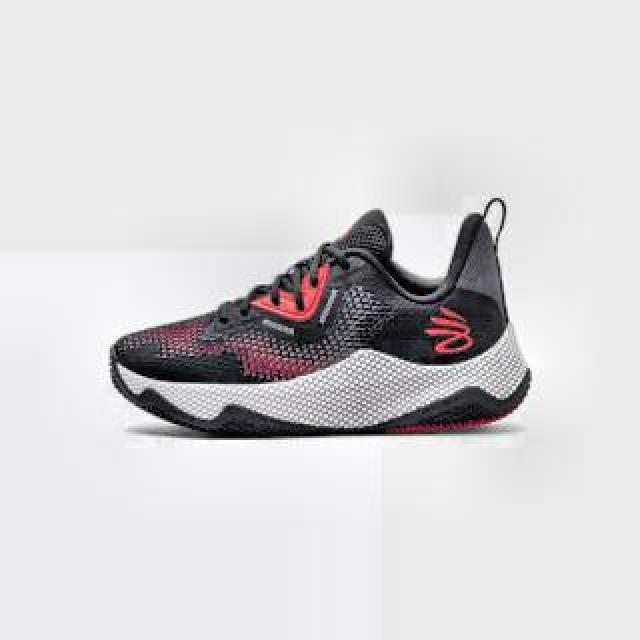shoe: (108, 206, 536, 436)
